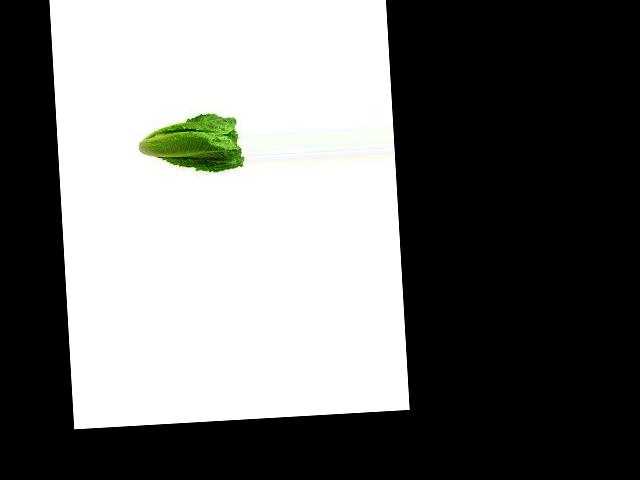lettuce: (159, 81, 240, 202)
